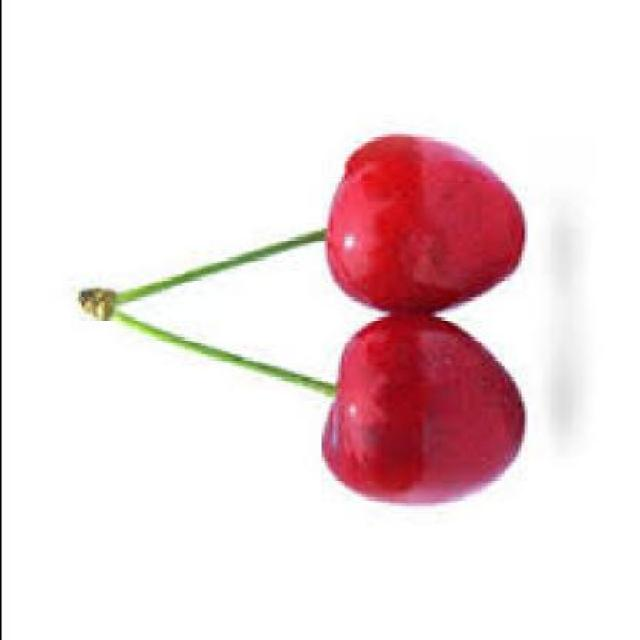BIODEGRADABLE: (322, 134, 528, 508), (80, 228, 336, 398)
